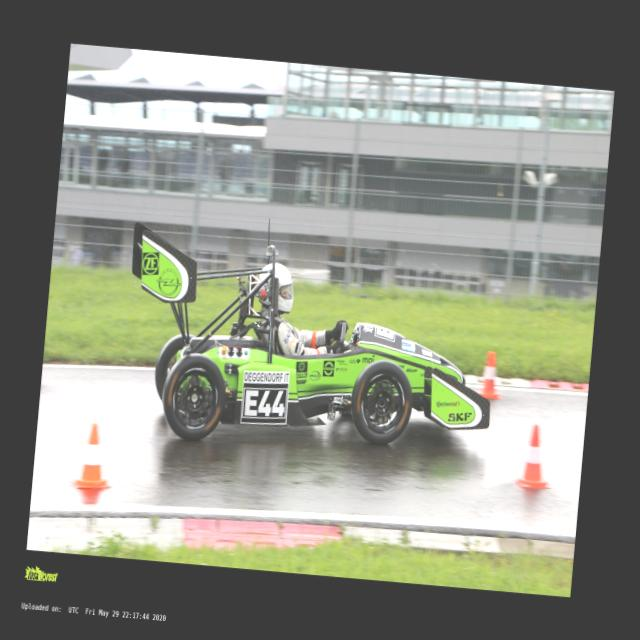orange_cone: (68, 421, 116, 490), (512, 422, 558, 489), (475, 350, 506, 399)
